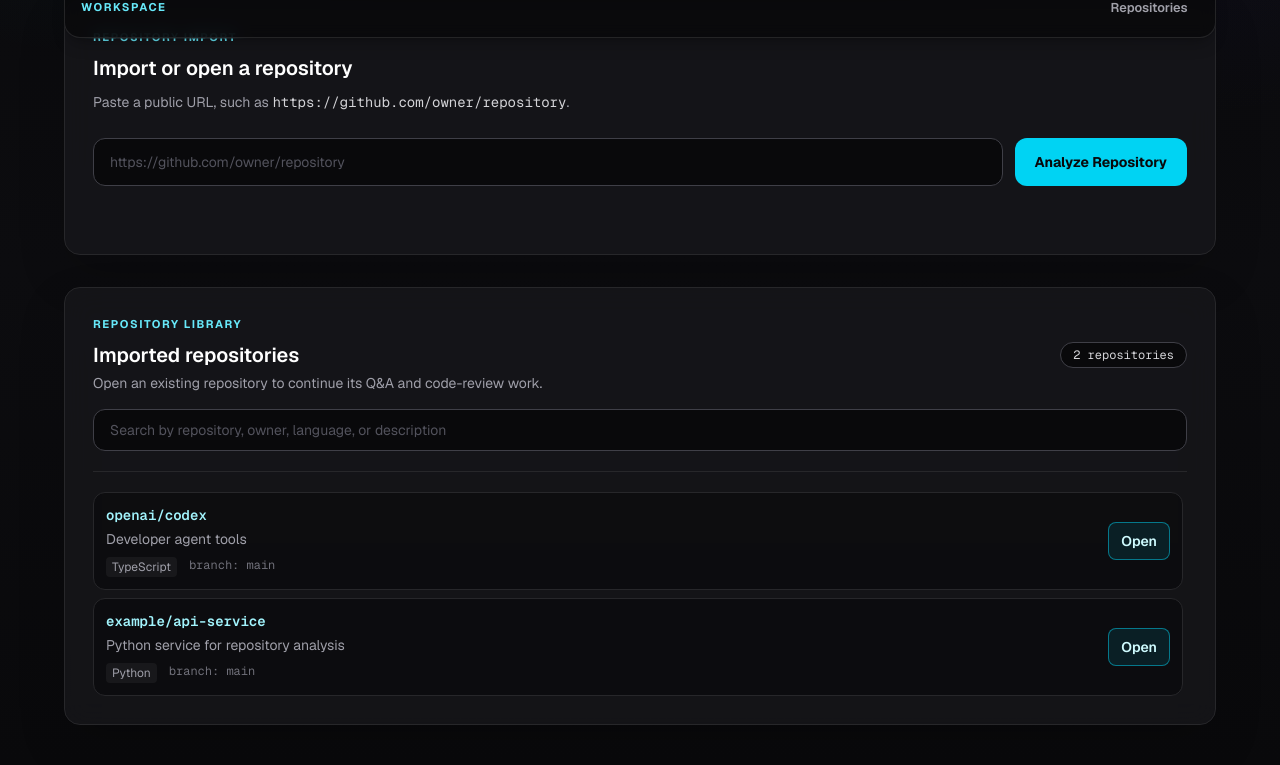
Test: CodeAtlas repository dashboard › opens a selected repository and retains existing repository features
(page scrolled)
Expected: the text "example/api-service" is shown, [106, 612, 266, 630]
What coordinates should you click on to do the following:
click the button "Open" in the row of "Python service for repository analysis"
I would click on:
 (1139, 647)
Its box is [1108, 628, 1170, 666].
(page scrolled)
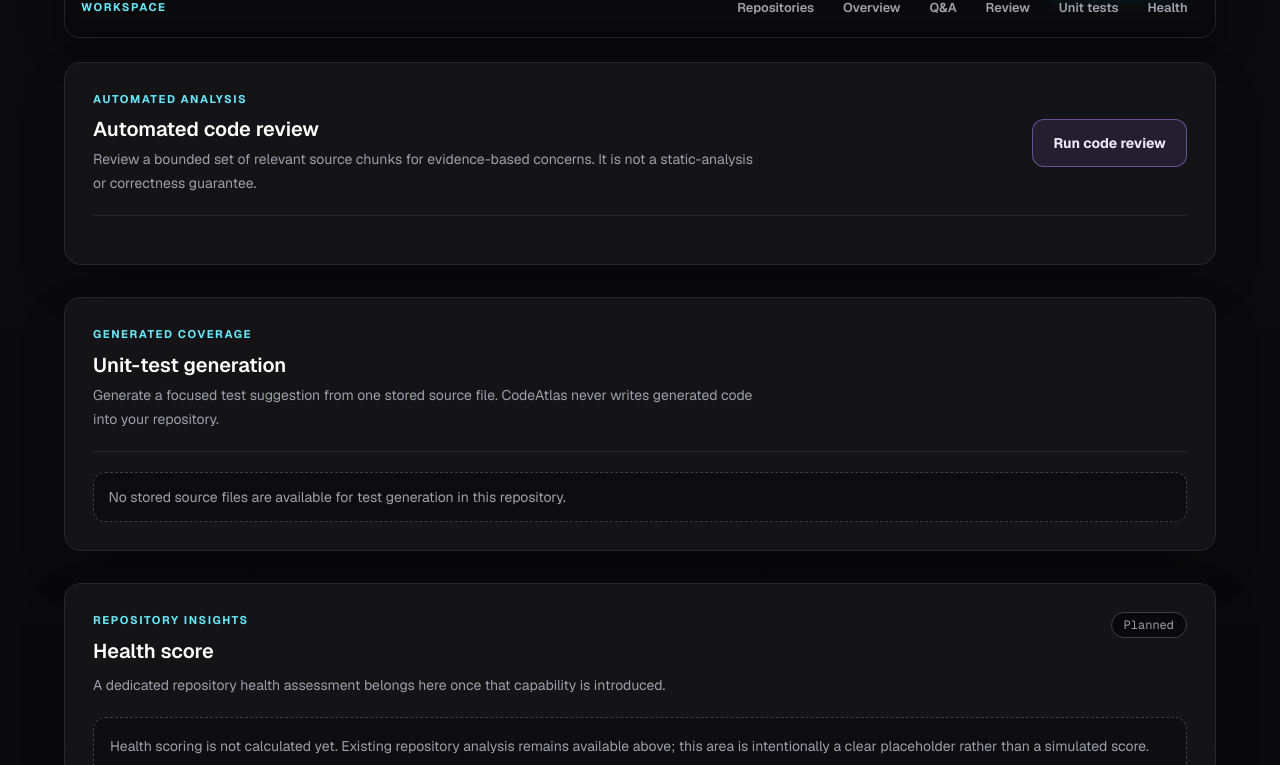
Expected: the heading "Automated code review" is shown, [93, 116, 319, 142]
Expected: the heading "Unit-test generation" is shown, [93, 352, 286, 378]
